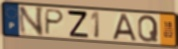1: (89, 11, 100, 40)
A: (112, 13, 138, 42)
N: (17, 6, 45, 37)
P: (43, 8, 66, 36)
Q: (137, 14, 160, 44)
Z: (66, 9, 90, 39)
